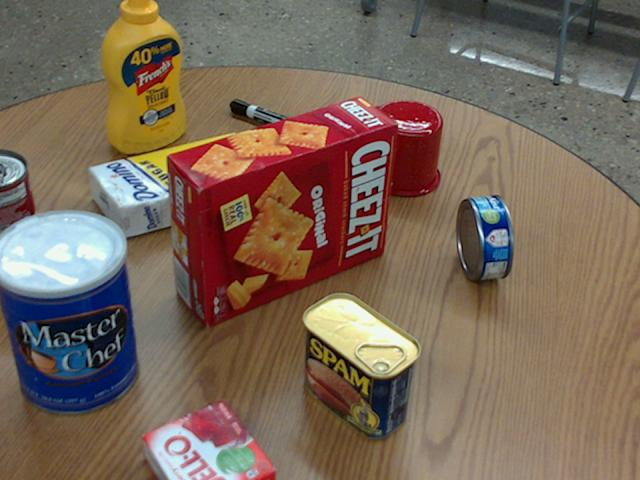cracker_box: (168, 96, 396, 324)
gelatin_box: (140, 400, 273, 479)
large_marker: (230, 98, 314, 138)
master_chef_can: (0, 210, 137, 414)
mug: (363, 100, 442, 196)
mustard_bottle: (102, 0, 185, 152)
potted_meat_can: (301, 292, 419, 438)
sugar_box: (88, 131, 268, 238)
tomato_soup_can: (0, 149, 41, 270)
tuna_fish_can: (455, 194, 514, 279)
